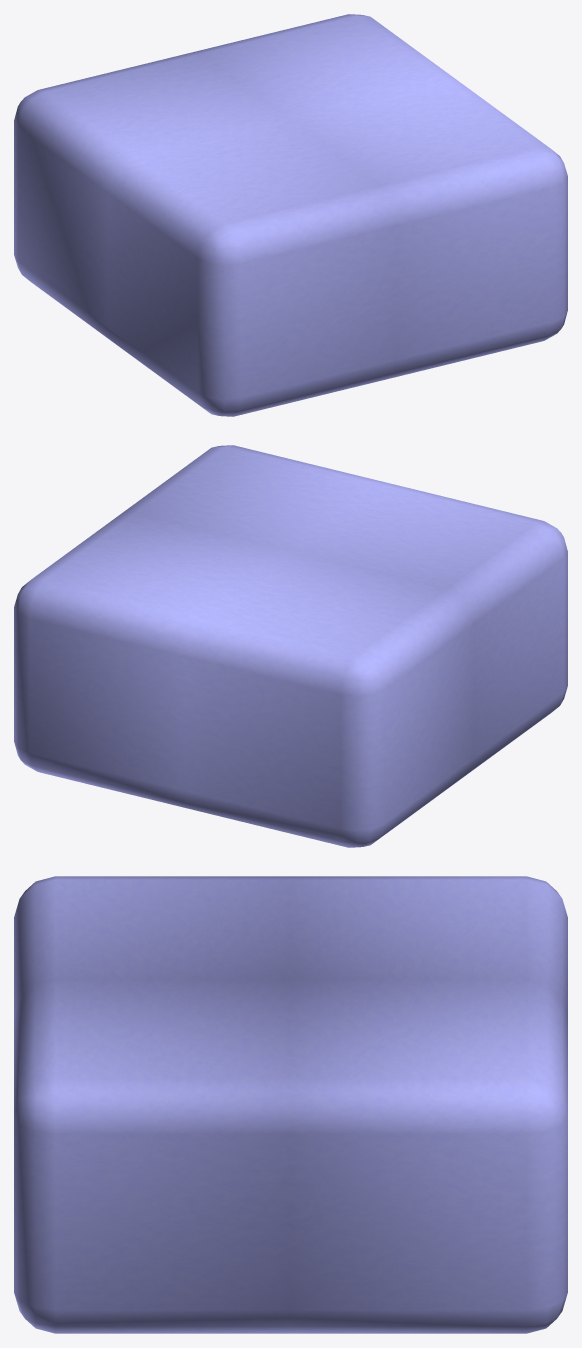
The model's file is __clay_block_08_151.obj.
The picture shows the model from 3 angles, top to bottom: view 1: azimuth 30°, elevation 25°; view 2: azimuth 150°, elevation 25°; view 3: azimuth 270°, elevation 25°; orthographic projection. The views are drawn at different scales.
Parts seen in each view (by area): view 1: clay_block_151; view 2: clay_block_151; view 3: clay_block_151.
Boxes of the visible parts, x1=… form: clay_block_151: x1=14, y1=14, x2=567, y2=416; clay_block_151: x1=14, y1=445, x2=567, y2=847; clay_block_151: x1=14, y1=876, x2=567, y2=1333.
Bounding box in the file's own units: 2 × 1 × 2.
1 material, 1 textured.
